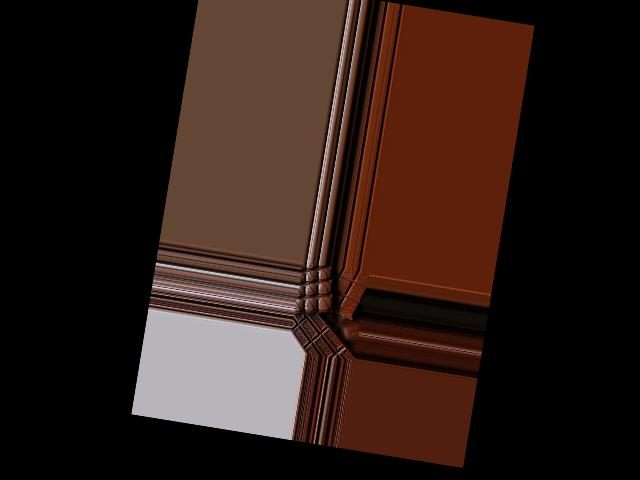chocolate: (318, 265, 365, 320)
